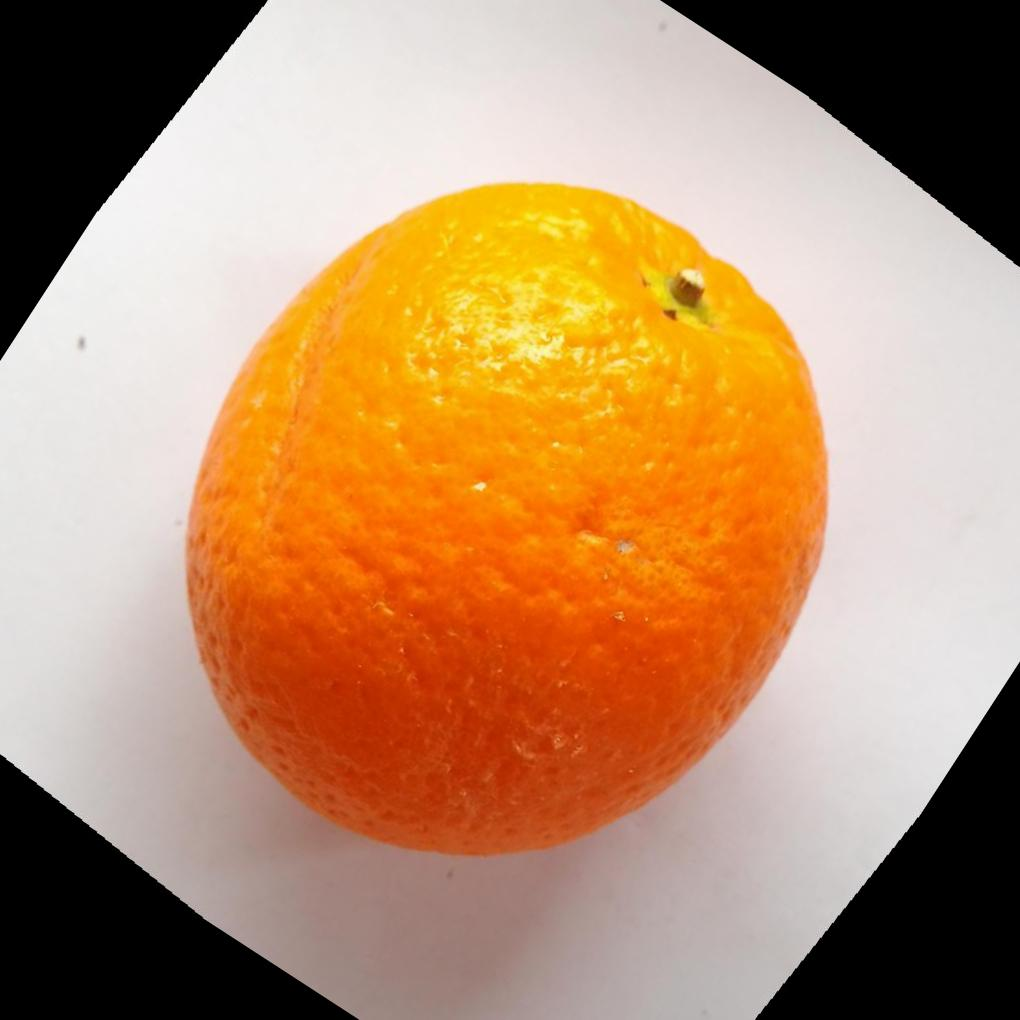FreshGuava: (183, 178, 833, 857)
